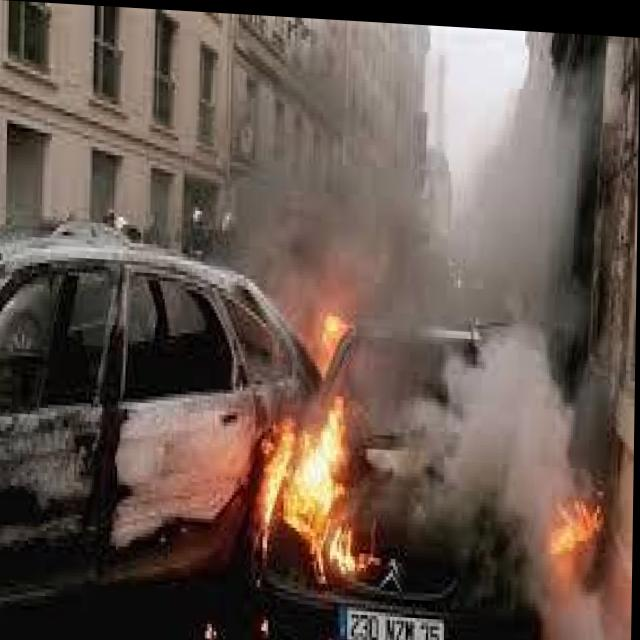fire: (239, 380, 395, 597), (541, 467, 614, 561), (300, 293, 362, 379)
